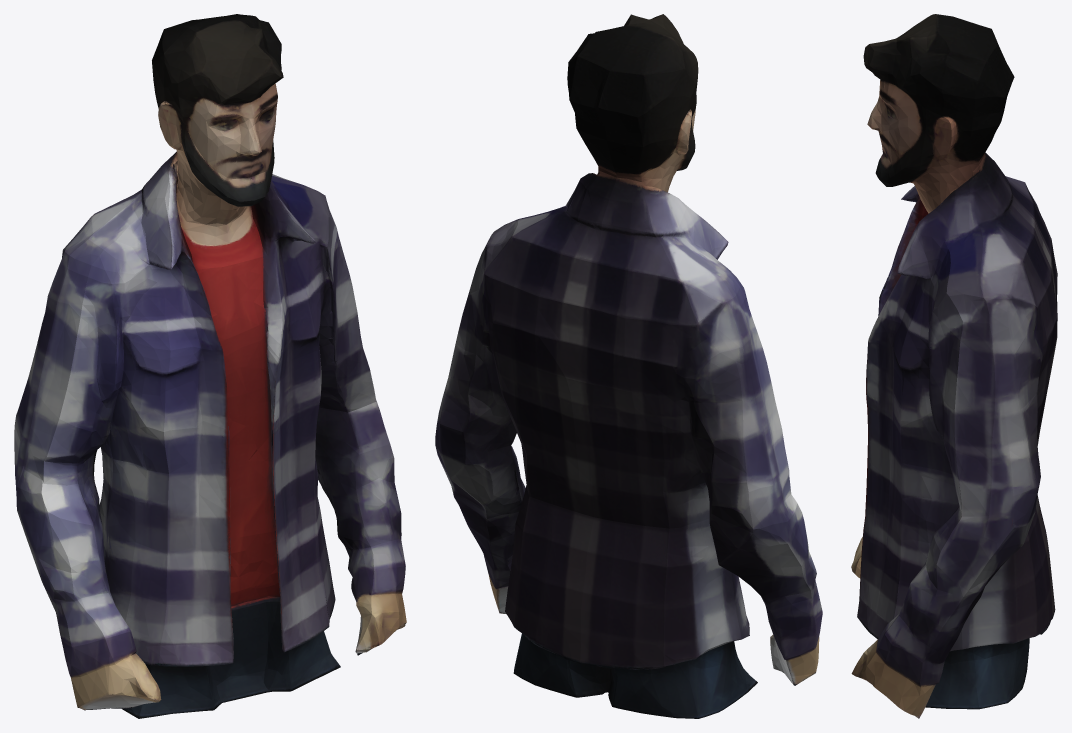
The picture shows the model from 3 angles, left to right: view 1: azimuth 30°, elevation 25°; view 2: azimuth 150°, elevation 25°; view 3: azimuth 270°, elevation 25°; orthographic projection. The views are drawn at different scales.
Visible parts, largest first — view 1: world; view 2: world; view 3: world.
Boxes of the visible parts, <box> form: world: <box>14,14,406,718</box>; world: <box>435,14,822,718</box>; world: <box>851,14,1057,718</box>.
Size of the model in its own units: 0.5668 by 0.9981 by 0.2936.
1 material, 1 textured.
